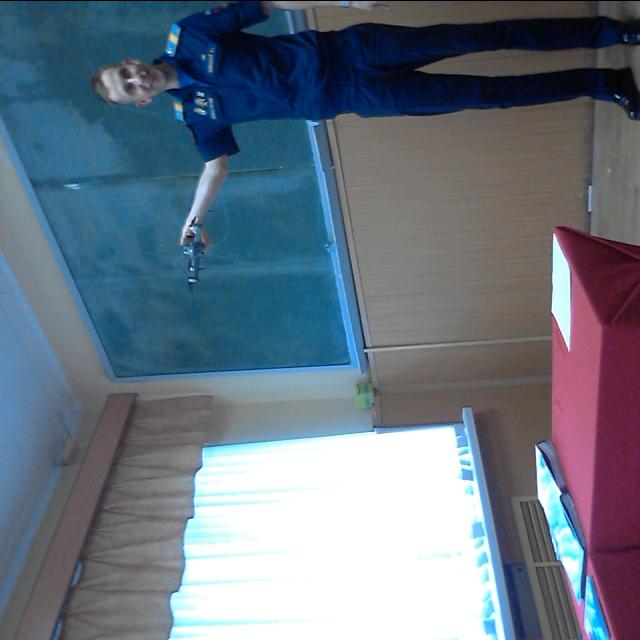drone: (144, 201, 218, 303)
